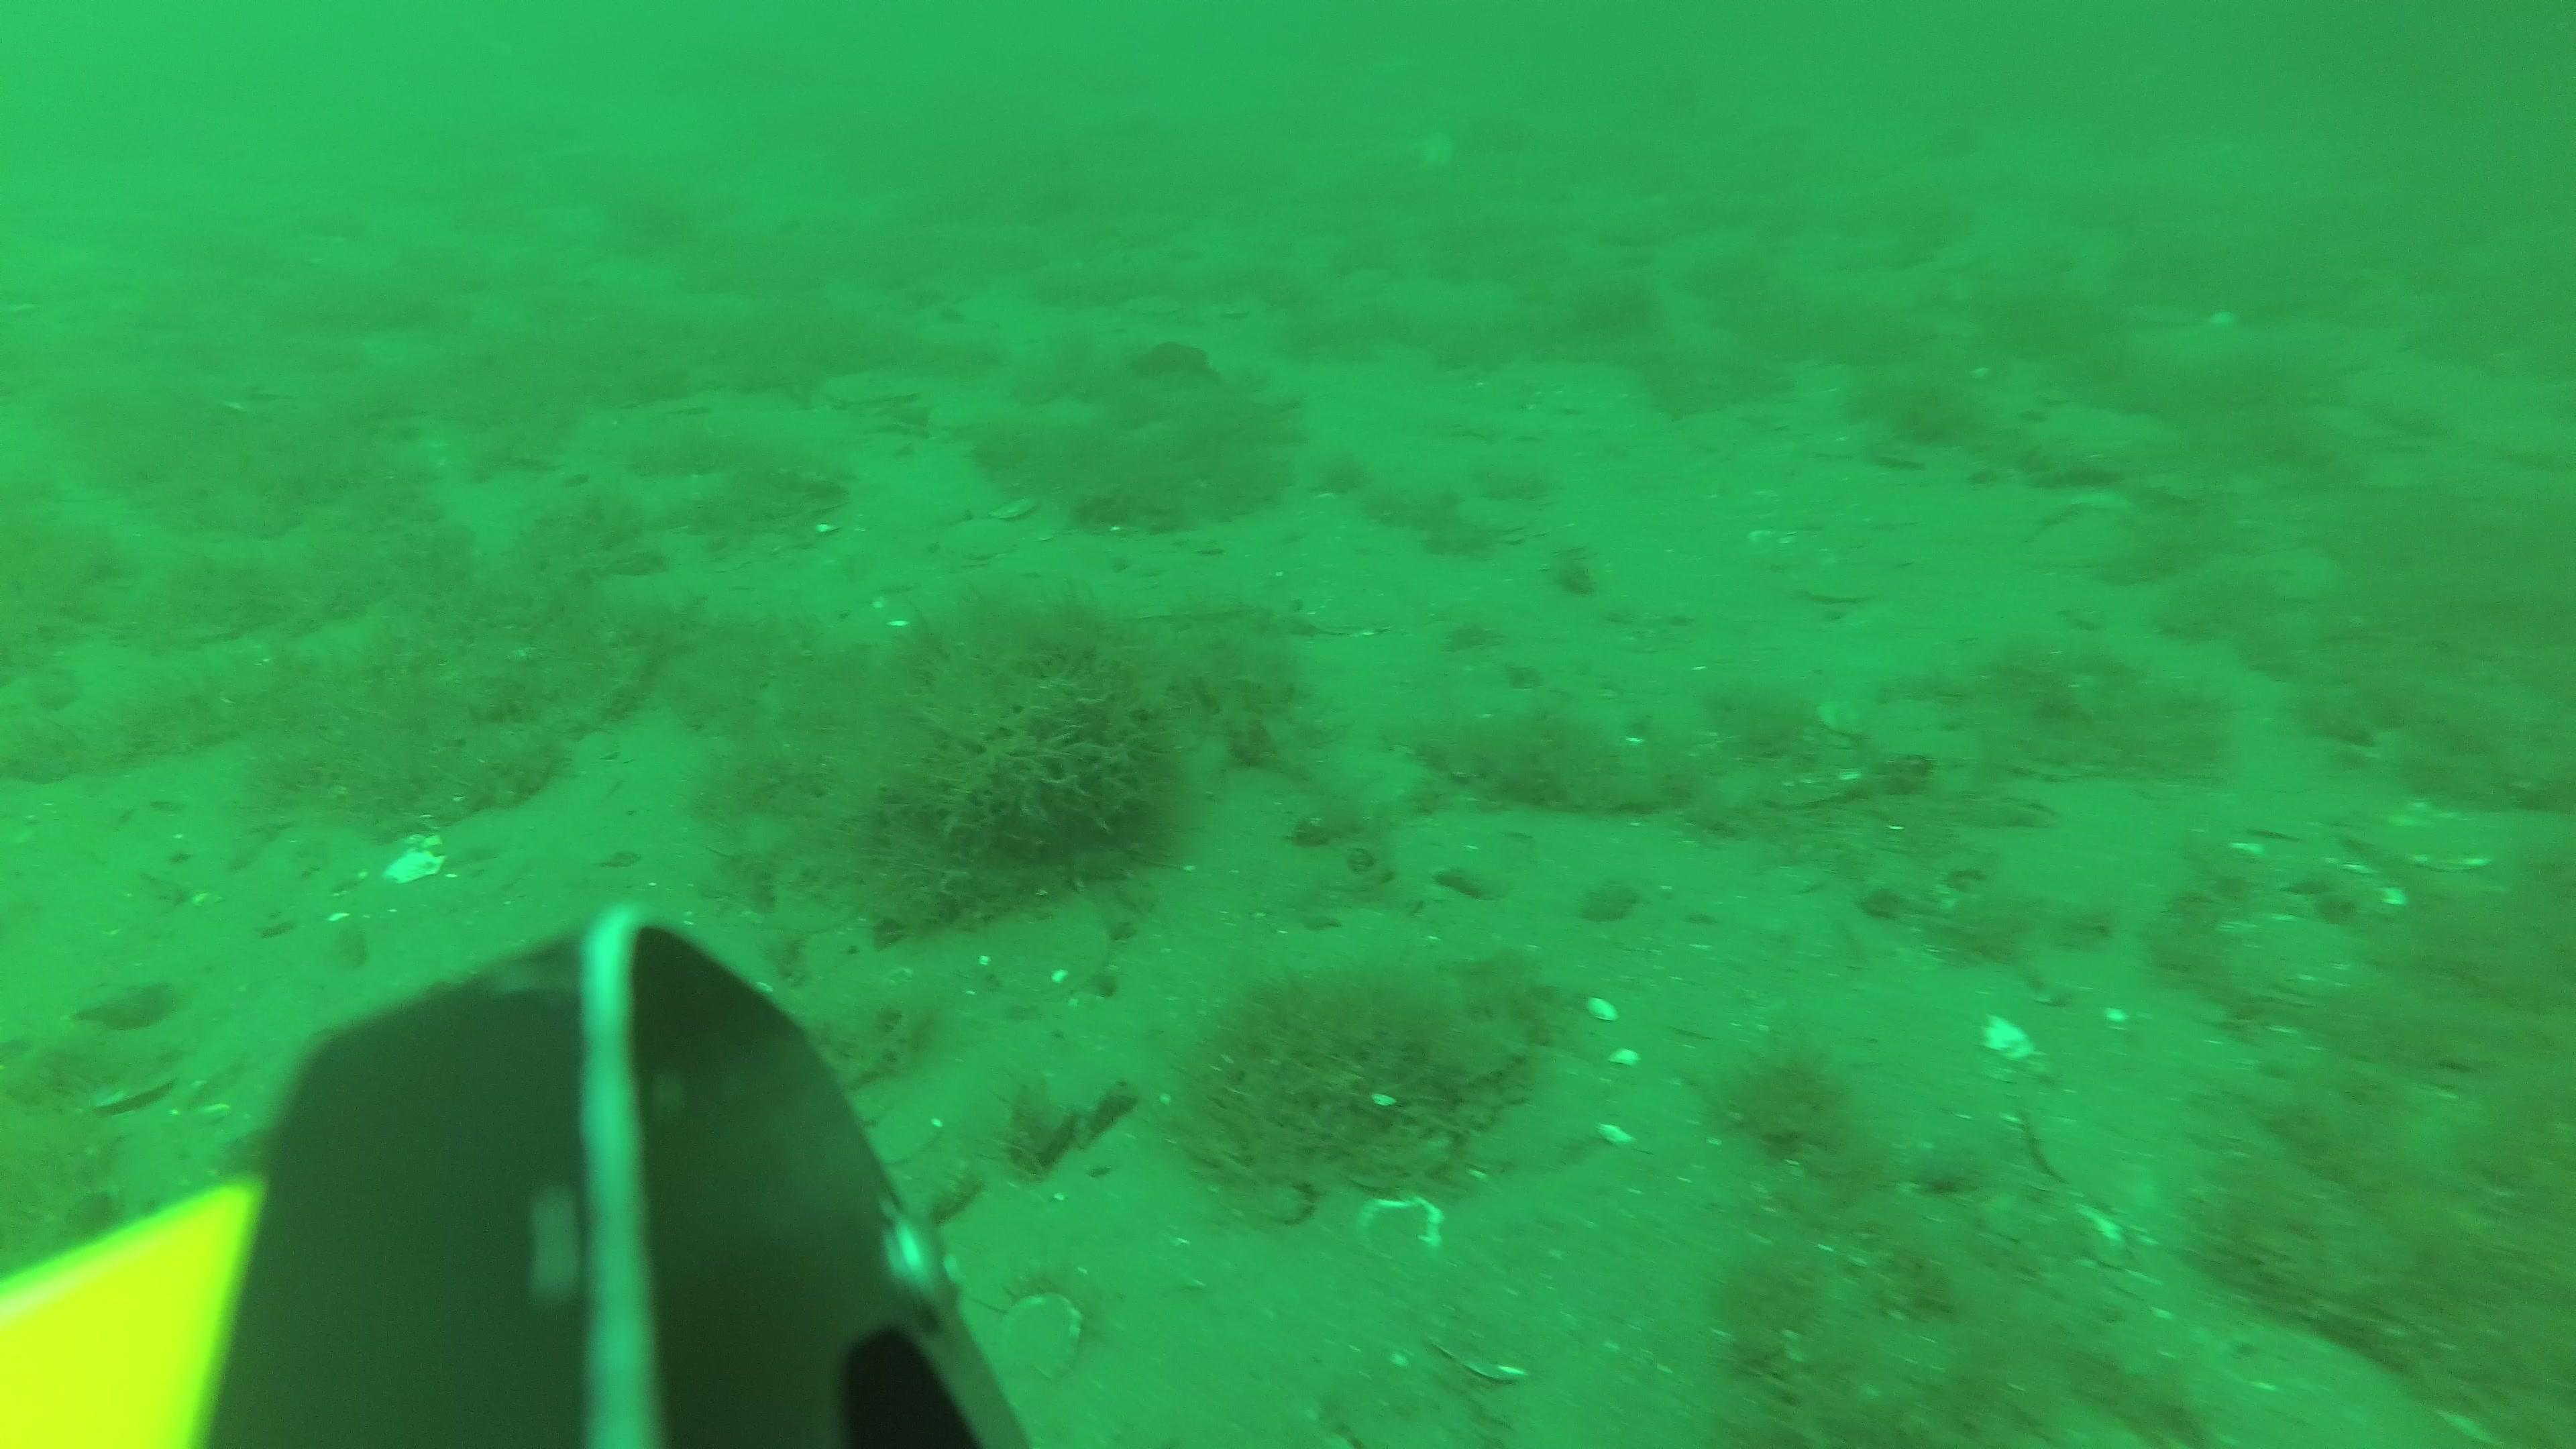scallop: (994, 899, 1108, 1000), (996, 1293, 1083, 1376), (1359, 1194, 1440, 1261), (867, 1106, 938, 1166), (945, 517, 1021, 566), (1805, 561, 1877, 607)
